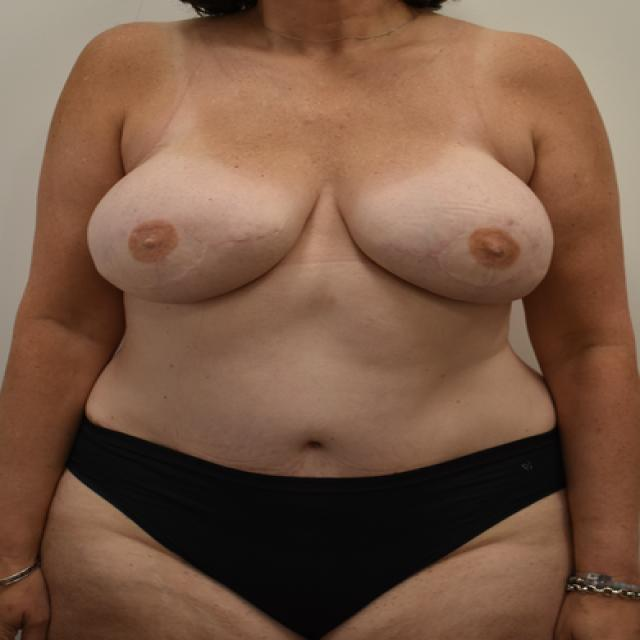Seno ileso: (81, 132, 325, 319), (330, 132, 560, 319)
